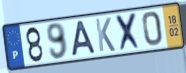0: (140, 11, 164, 48)
8: (25, 26, 44, 63)
9: (45, 21, 70, 61)
A: (71, 19, 98, 58)
K: (94, 16, 117, 53)
X: (114, 11, 143, 53)
